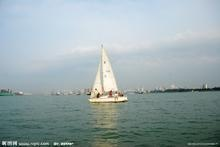fanchuan: (85, 42, 131, 105)
